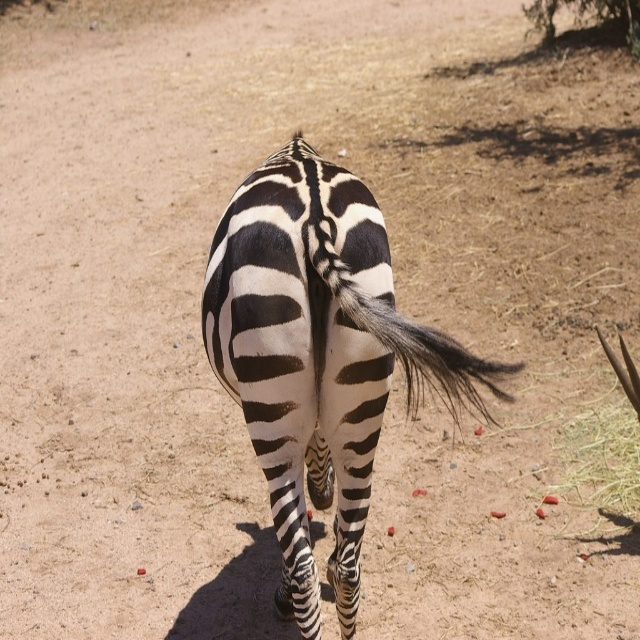Zebra: (200, 127, 530, 640)
